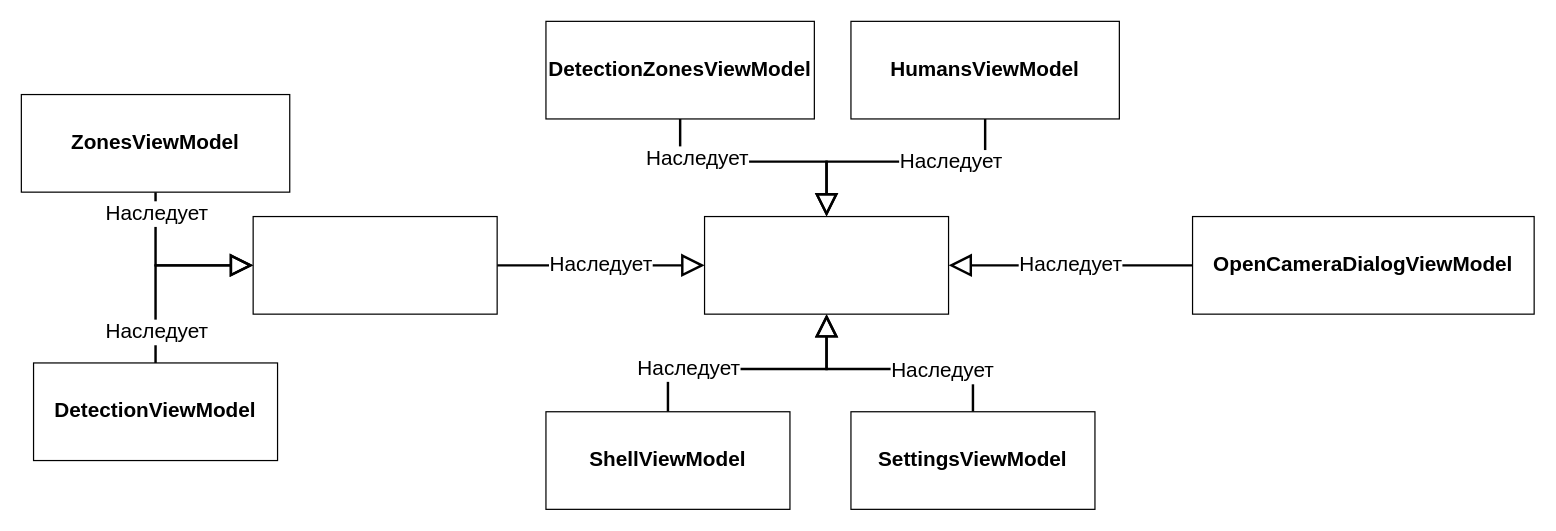
The diagram is 1556 pixels wide and 531 high, and some of its shapes have lost their labels. The shapes that lost their labels are listed below. From the top down, each one's centre as x and y in pixels, then its label:
[374,264]: ZoneCosumer
[826,264]: ReactiveObject
